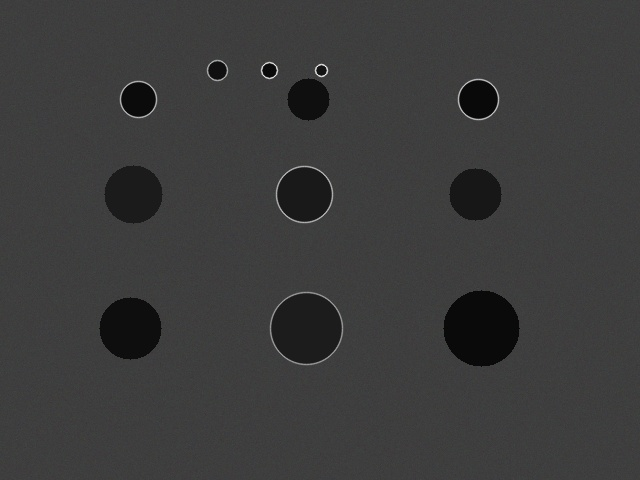hole: (443, 290, 519, 366), (270, 292, 342, 364), (99, 297, 161, 359), (104, 165, 162, 223), (276, 166, 332, 222), (449, 168, 501, 220), (287, 78, 329, 120), (458, 79, 498, 119), (120, 81, 156, 117), (207, 60, 227, 80), (261, 62, 277, 78), (315, 64, 327, 76)
